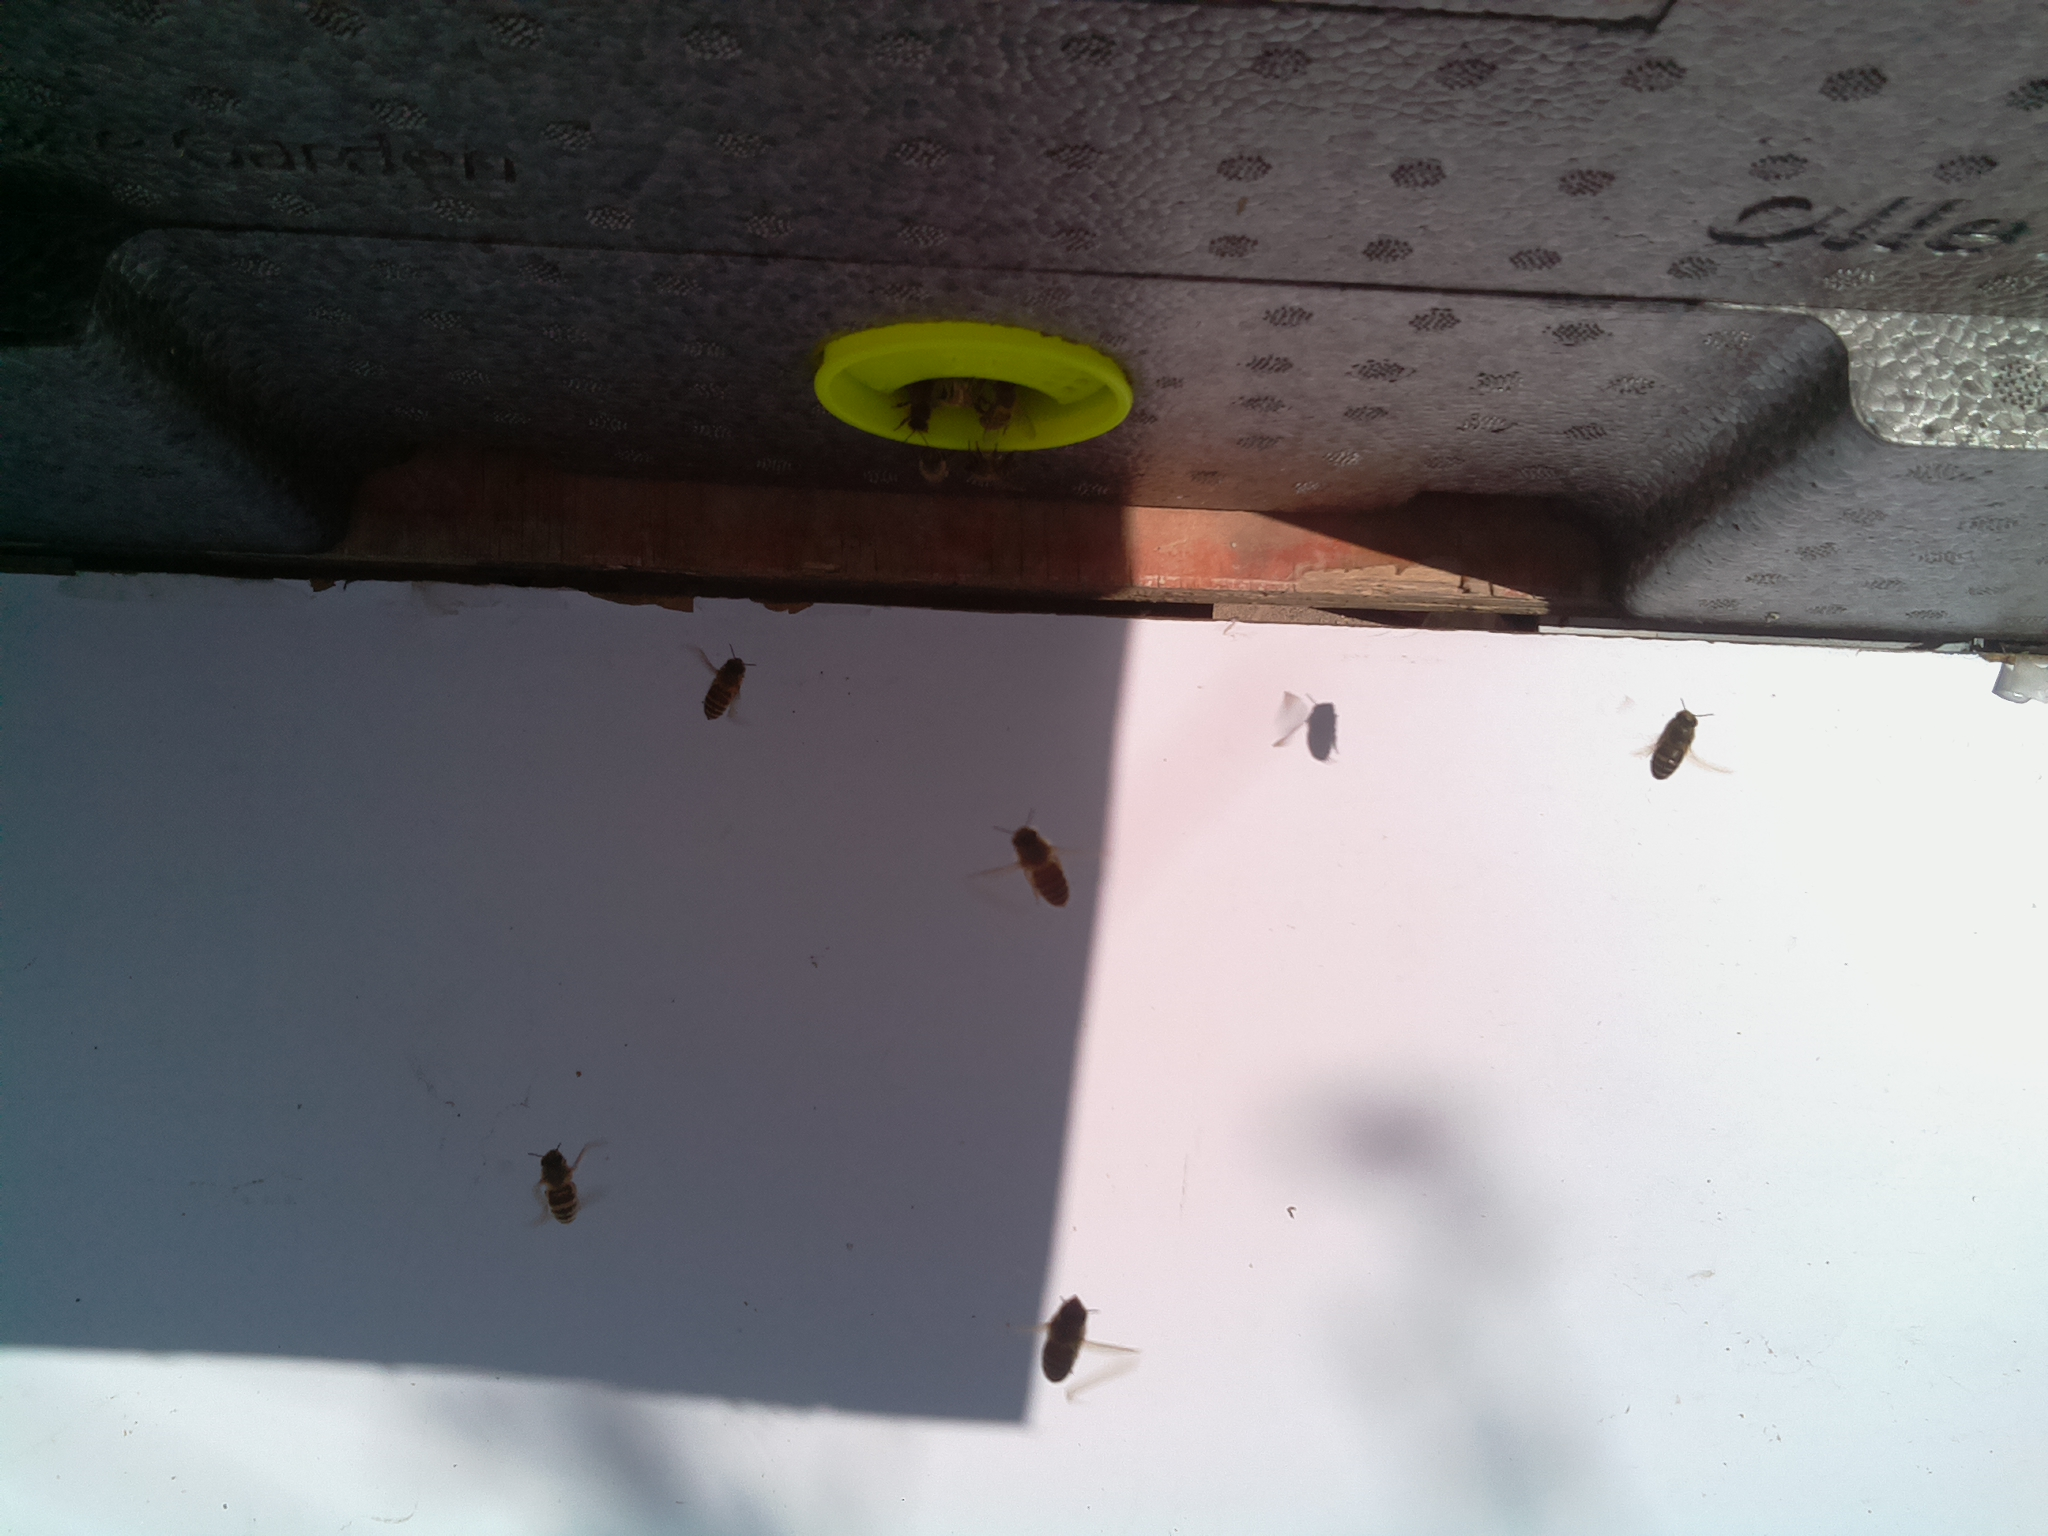bee: (521, 1140, 592, 1230)
